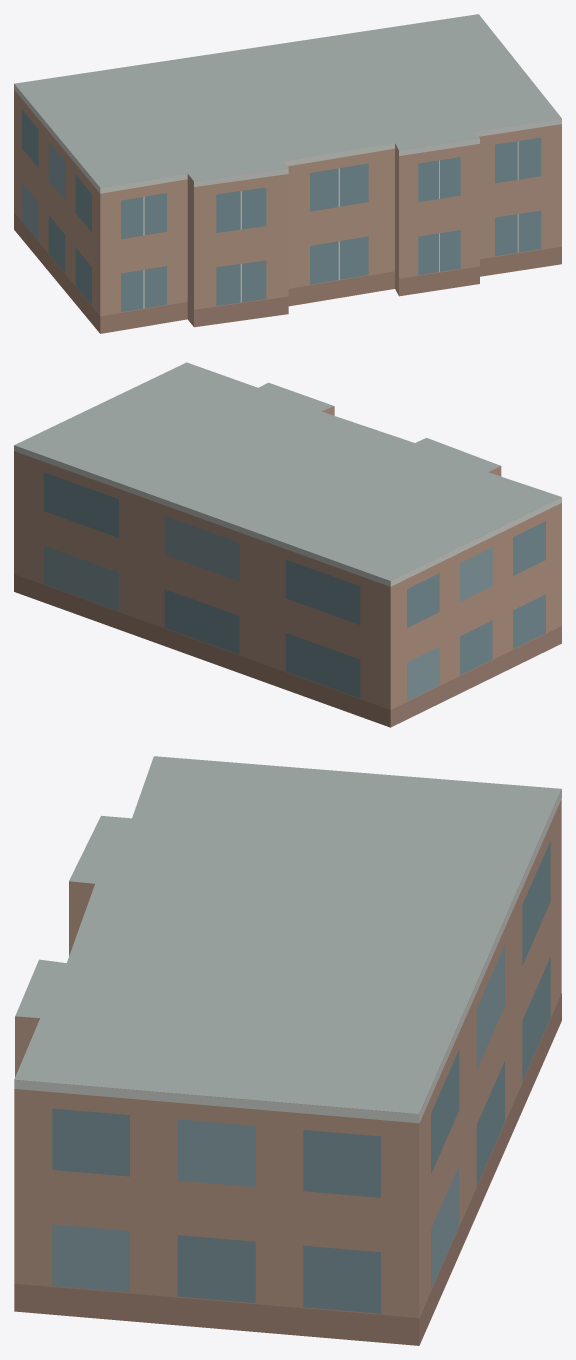
File: survey-upis-32897772.glb
3 views of the same model, one above another, from view 1: azimuth 30°, elevation 25°; view 2: azimuth 150°, elevation 25°; view 3: azimuth 270°, elevation 25° (orthographic). The views are drawn at different scales.
Visible parts, largest first — view 1: survey-upis-32897772.tmp; view 2: survey-upis-32897772.tmp; view 3: survey-upis-32897772.tmp.
Part boxes in pixels (<box>): survey-upis-32897772.tmp: <box>14,14,561,333</box>; survey-upis-32897772.tmp: <box>14,362,561,727</box>; survey-upis-32897772.tmp: <box>14,756,561,1345</box>.
Bounding box in the file's own units: 20.22 × 6.1 × 13.07.
